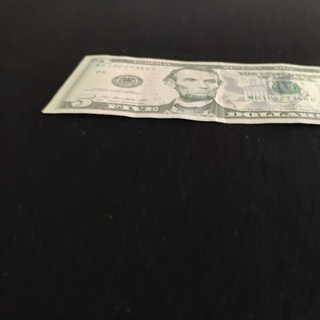5USDFront: (40, 53, 320, 132)
